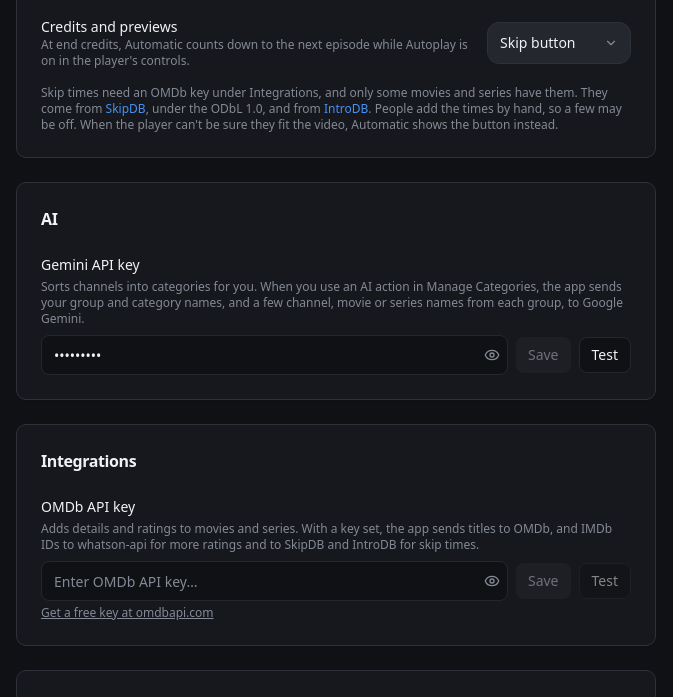
Scenario: Settings Gemini key › loads, checks and saves the key with its own service
(page scrolled)
Type "new-key" into the password field labelled "Gemini API key" at (274, 355), box top-left (41, 335), bottom-right (508, 375)
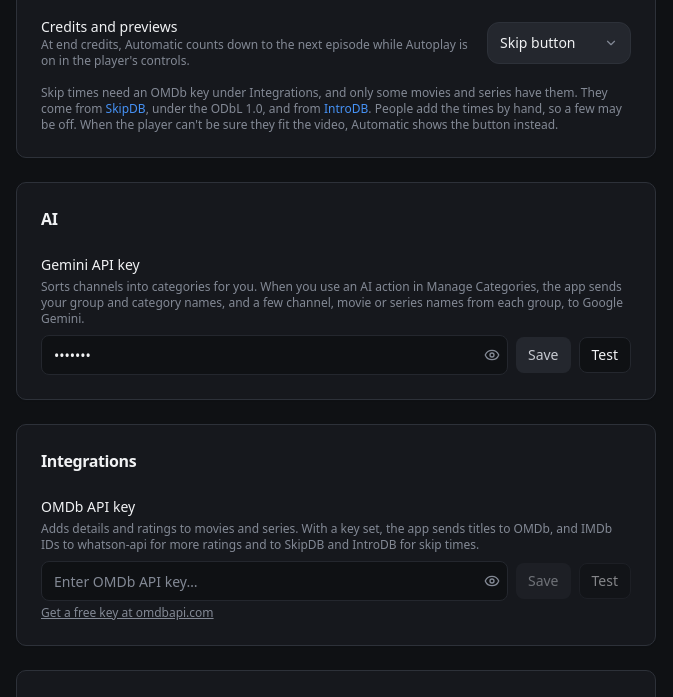
Click the 1st button "Test" at (605, 355), box top-left (578, 337), bottom-right (631, 373)
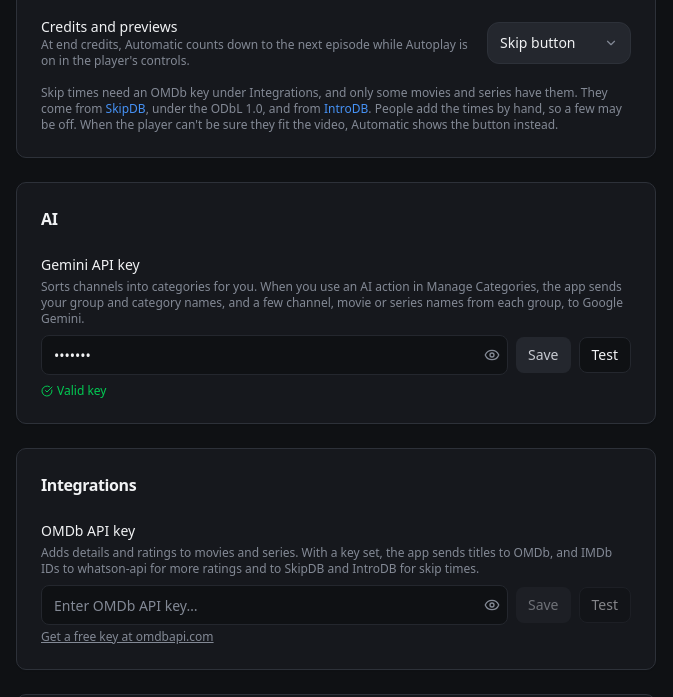
Result: the message reads "Valid key" at top-left (57, 382), bottom-right (106, 399)
Click the 1st button "Save" at (543, 355), box top-left (516, 337), bottom-right (571, 373)
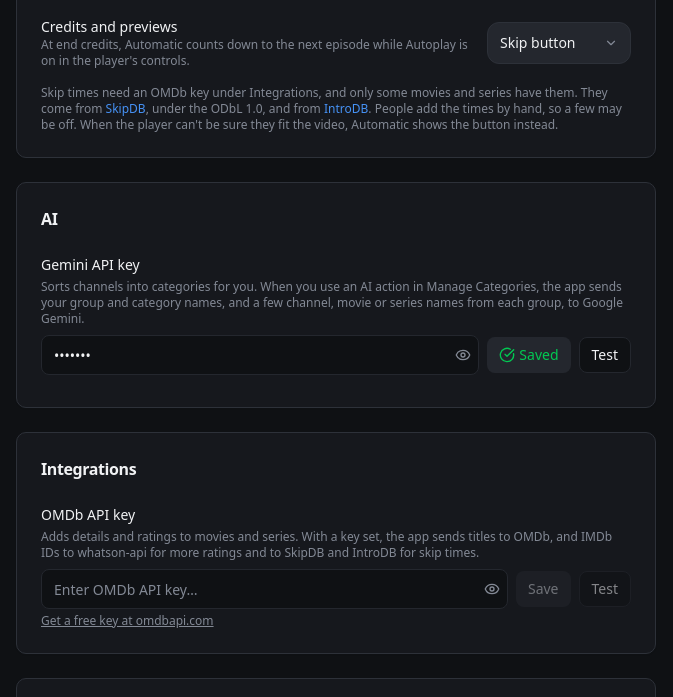
Result: the button "Saved" is shown at top-left (487, 337), bottom-right (571, 373)
